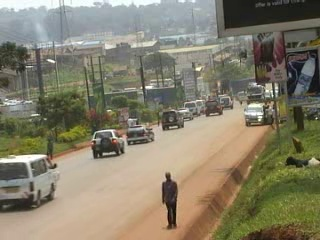Car: (89, 126, 126, 159), (124, 120, 156, 147), (158, 109, 186, 132), (202, 97, 223, 118), (175, 106, 193, 124), (217, 94, 234, 111)
